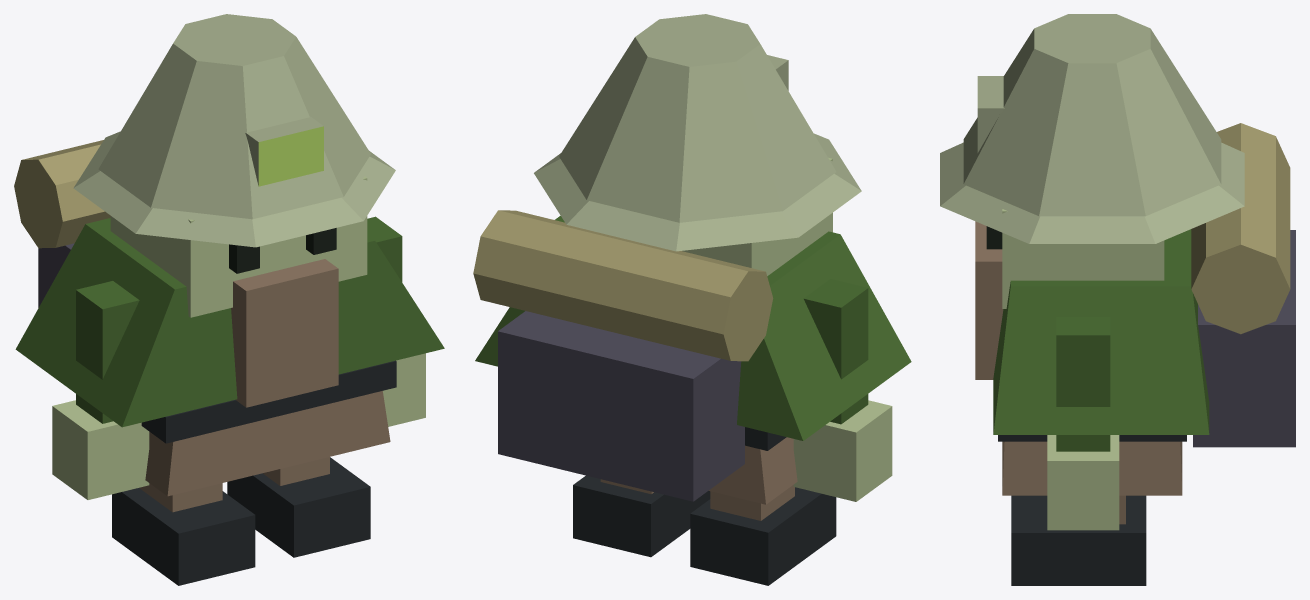
The model's file is hero.glb.
3 renders of one model, left to right at view 1: azimuth 30°, elevation 25°; view 2: azimuth 150°, elevation 25°; view 3: azimuth 270°, elevation 25°, orthographic.
Visible parts, largest first — view 1: Dome, Cloak, Chest, Tunic, Brim, BootR, BootL, Head, FistR, Roll, Belt, ArmR (+8 smaller); view 2: Dome, Pack, Roll, Cloak, Brim, BootR, FistR, BootL, ArmR, Tunic, Head, LegR (+1 smaller); view 3: Dome, Cloak, Roll, Pack, Brim, BootL, Head, FistL, Tunic, ArmL, Chest, Lamp (+1 smaller).
Boxes of the visible parts, bbox=[...] form: Dome: bbox=[98, 14, 370, 219]; Cloak: bbox=[15, 218, 444, 427]; Chest: bbox=[231, 259, 338, 407]; Tunic: bbox=[145, 391, 390, 496]; Brim: bbox=[73, 131, 395, 247]; BootR: bbox=[112, 488, 255, 585]; BootL: bbox=[227, 457, 370, 557]; Head: bbox=[110, 176, 367, 317]; FistR: bbox=[52, 400, 149, 499]; Roll: bbox=[14, 140, 110, 248]; Belt: bbox=[141, 360, 396, 443]; ArmR: bbox=[76, 281, 139, 423]; Dome: bbox=[559, 14, 836, 222]; Pack: bbox=[498, 311, 744, 501]; Roll: bbox=[473, 210, 773, 361]; Cloak: bbox=[475, 231, 911, 440]; Brim: bbox=[534, 133, 861, 251]; BootR: bbox=[690, 487, 836, 585]; FistR: bbox=[793, 400, 892, 501]; BootL: bbox=[573, 475, 710, 557]; ArmR: bbox=[803, 279, 868, 424]; Tunic: bbox=[708, 437, 797, 504]; Head: bbox=[682, 157, 832, 275]; LegR: bbox=[710, 485, 794, 520]; Dome: bbox=[963, 14, 1221, 216]; Cloak: bbox=[993, 229, 1209, 434]; Roll: bbox=[1191, 123, 1290, 334]; Pack: bbox=[1193, 230, 1295, 447]; Brim: bbox=[940, 142, 1244, 243]; BootL: bbox=[1011, 495, 1146, 585]; Head: bbox=[1002, 209, 1164, 308]; FistL: bbox=[1047, 435, 1119, 530]; Tunic: bbox=[1002, 441, 1182, 495]; ArmL: bbox=[1056, 317, 1110, 451]; Chest: bbox=[975, 221, 1003, 379]; Lamp: bbox=[977, 76, 1004, 152].
Size of the model in its own units: 0.88 by 1.23 by 0.7911.
